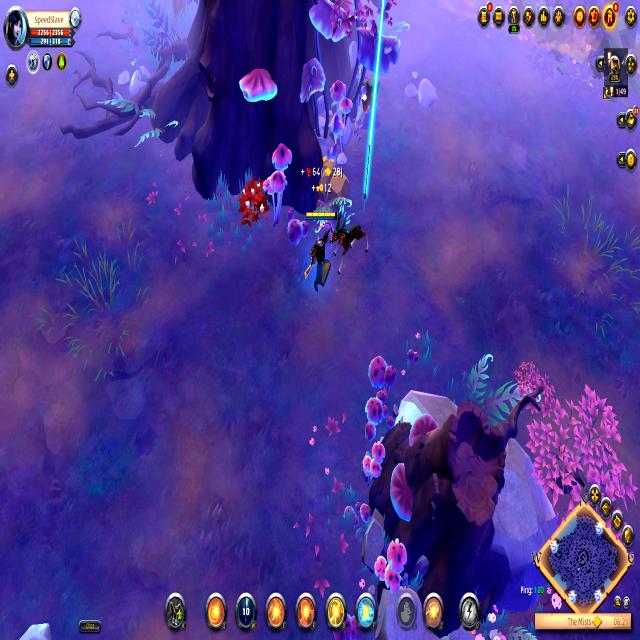hide: (236, 170, 271, 232)
ore: (322, 212, 374, 280)
player: (353, 70, 388, 142)
red: (300, 205, 338, 294)
tree: (304, 150, 354, 212)
